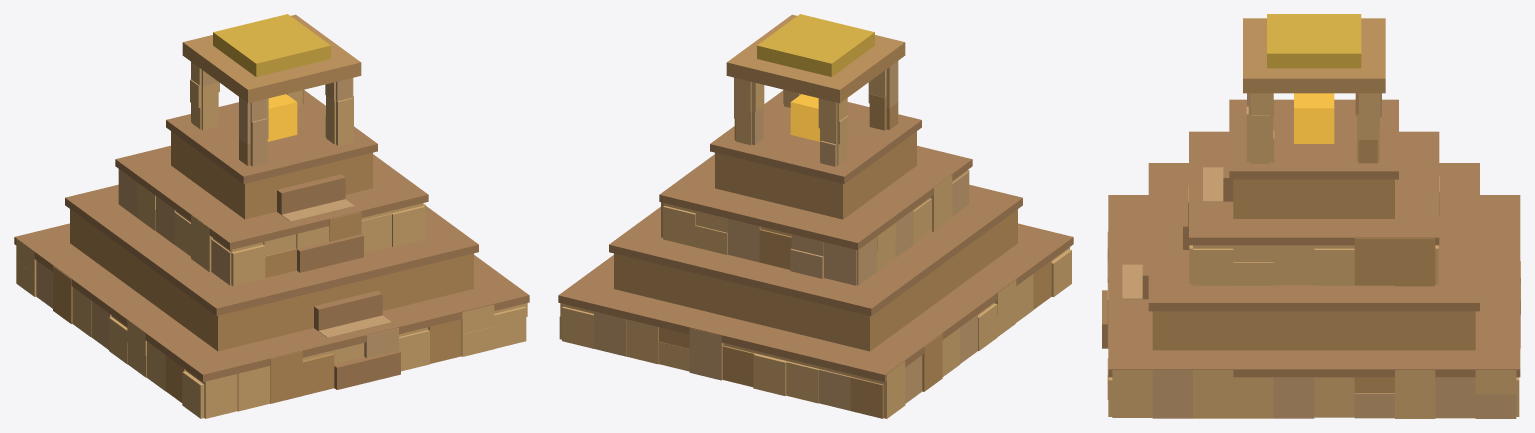
The model's file is Ziggurat.glb.
The picture shows the model from 3 angles, left to right: view 1: azimuth 30°, elevation 25°; view 2: azimuth 150°, elevation 25°; view 3: azimuth 270°, elevation 25°; orthographic projection. The views are drawn at different scales.
Visible parts, largest first — view 1: Ziggurat; view 2: Ziggurat; view 3: Ziggurat.
Part boxes in pixels (x1=…): Ziggurat: x1=14, y1=14, x2=529, y2=418; Ziggurat: x1=558, y1=14, x2=1073, y2=418; Ziggurat: x1=1102, y1=14, x2=1520, y2=418.
Bounding box in the file's own units: 30.69 × 24.4 × 31.1.
2 materials, 2 textured.
